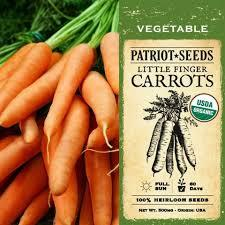Organic: (2, 4, 129, 217)
